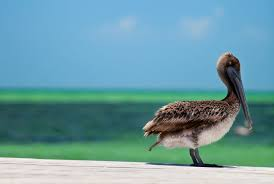pelican: (142, 53, 255, 168)
